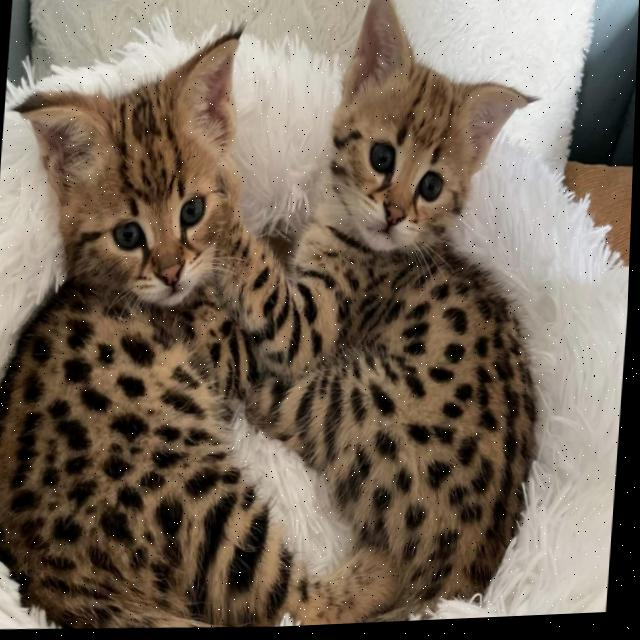Savannah: (216, 0, 575, 632), (0, 10, 321, 640)
